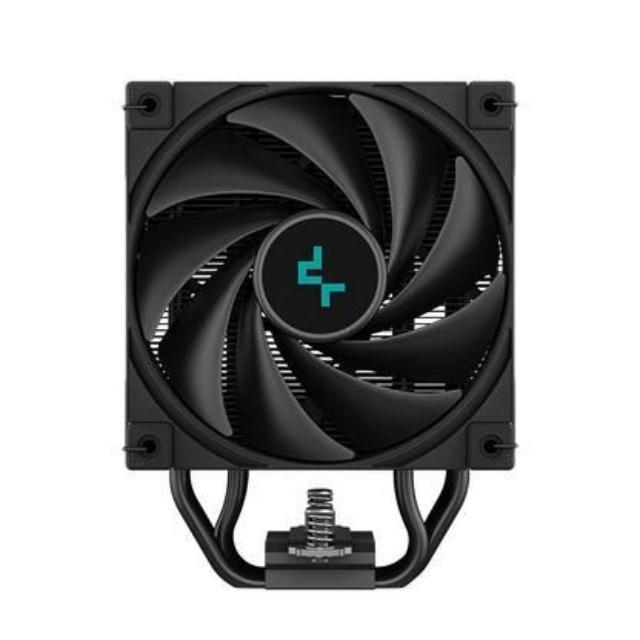CPU_Fan: (120, 77, 520, 586)
